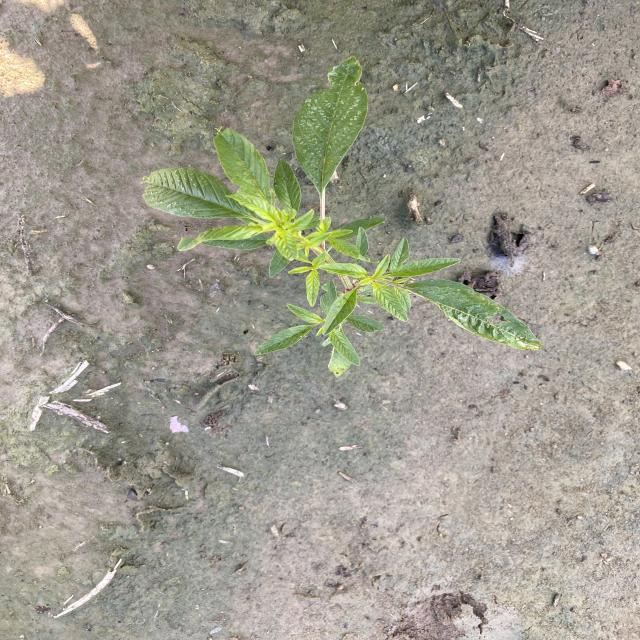Waterhemp: (140, 54, 546, 382)
